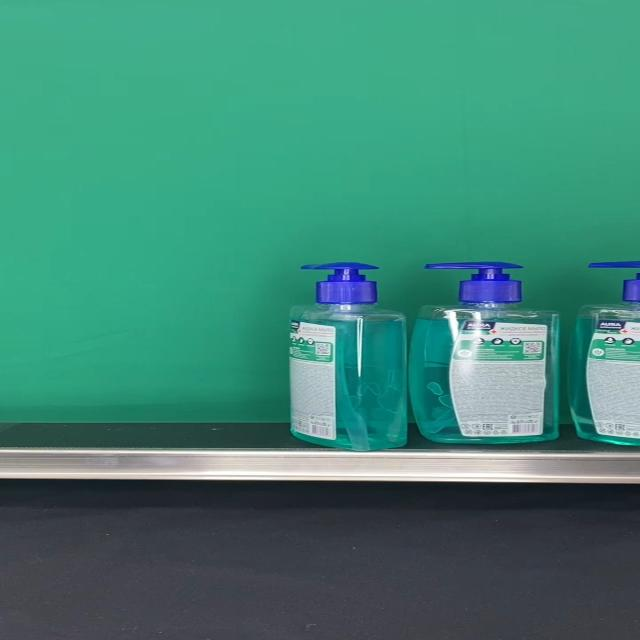Bottle: (410, 261, 558, 443), (287, 262, 408, 452)
Cap: (423, 261, 523, 303), (299, 262, 380, 304)
